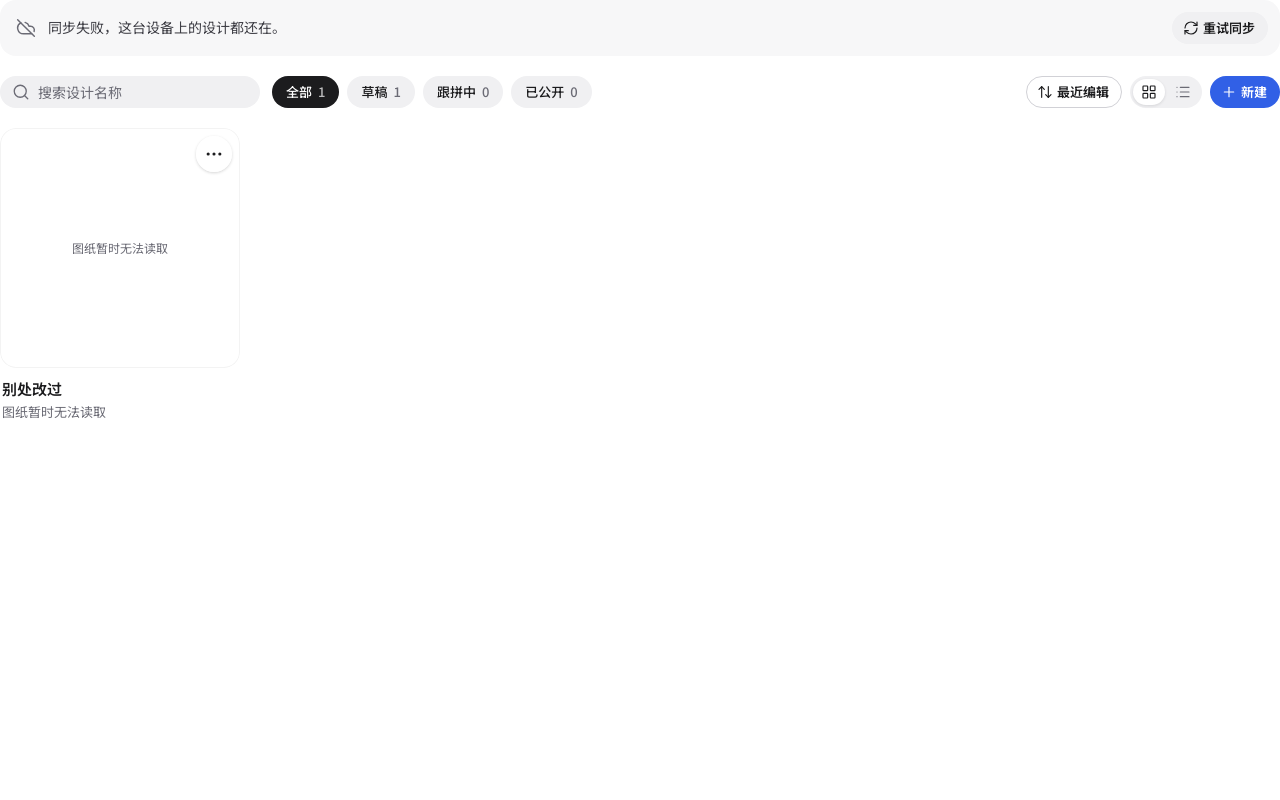
Test: 我的 · 设计 › 删除时云端已被其他设备改过：说明原因并刷新列表，本机与云端都不动
Click the button named "「别处改过」的更多操作" at [214, 154], box [196, 136, 232, 172]
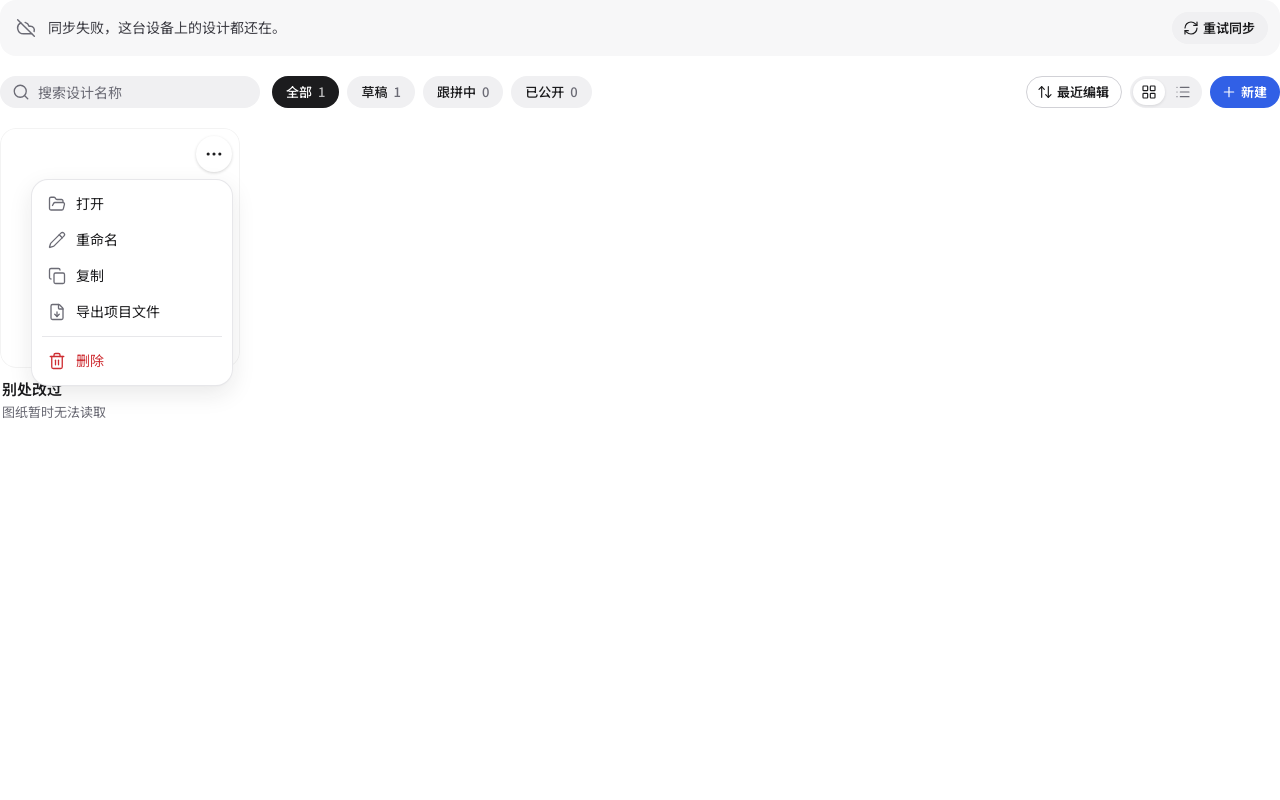
Click the menu item "删除" at [76, 361], box [48, 352, 104, 370]
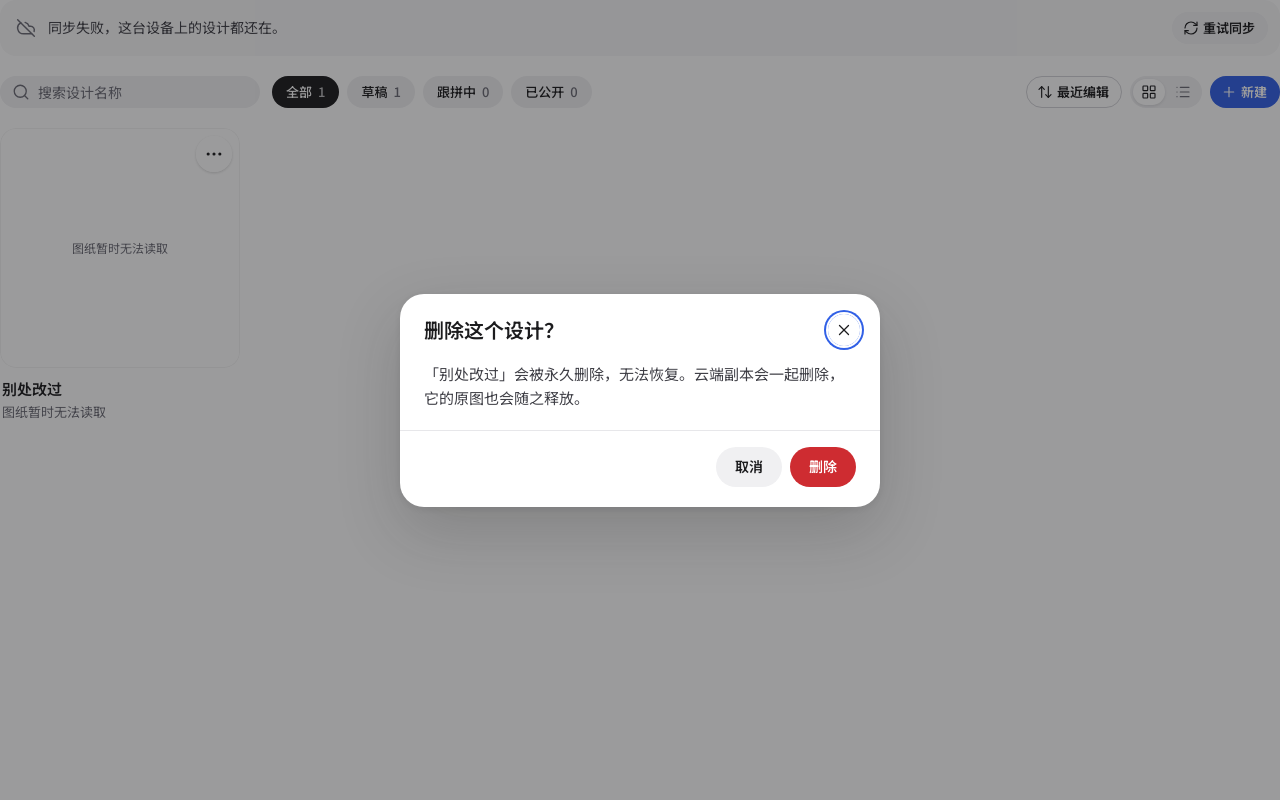
Click the button "删除" at [823, 466], box [790, 446, 856, 486]
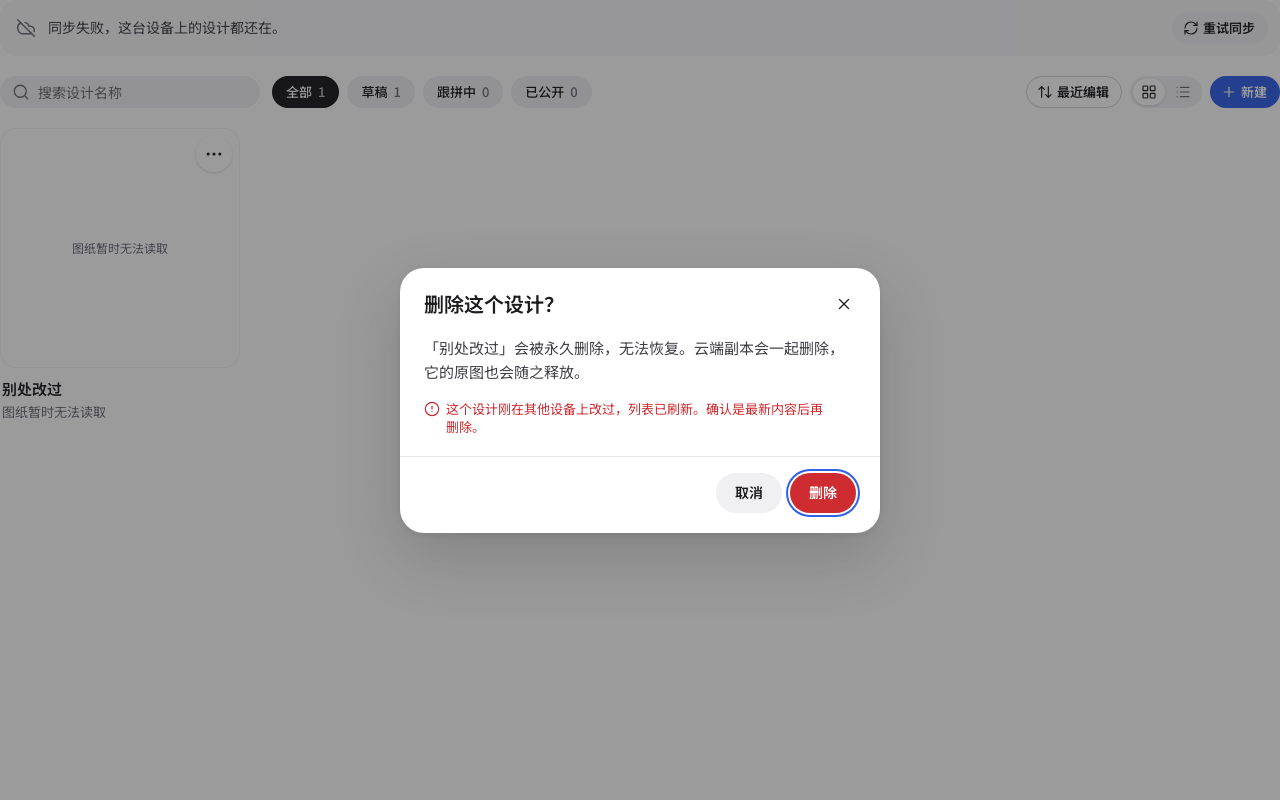
Expected: the message shows "这个设计刚在其他设备上改过", [446, 400, 823, 434]
